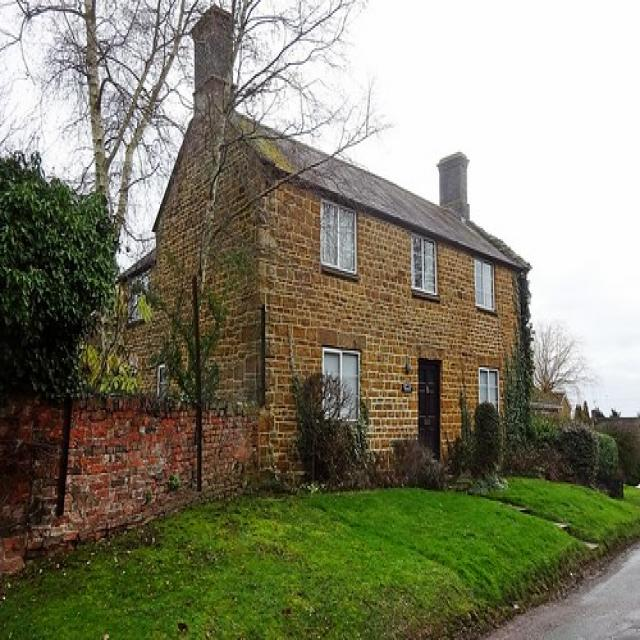Normal_building: (109, 21, 536, 484)
